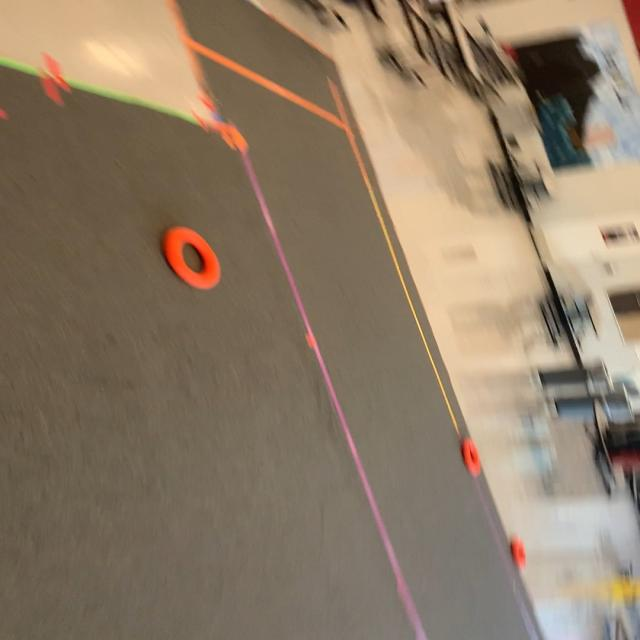notes: (164, 228, 225, 290), (458, 436, 488, 476), (510, 535, 530, 571)
